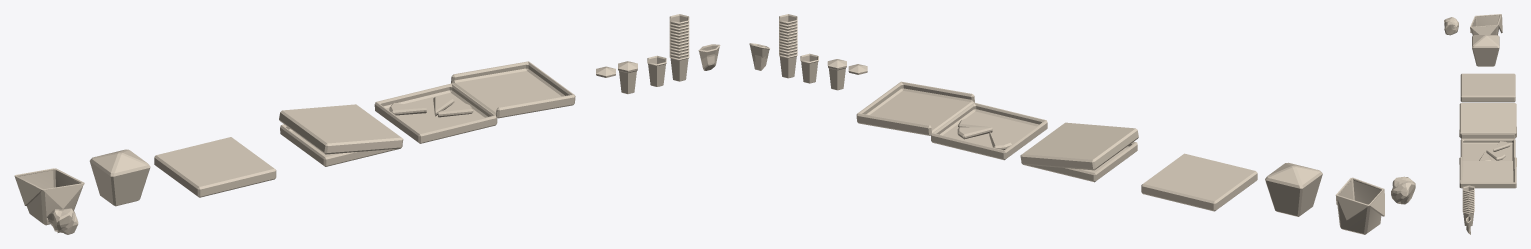
Rendered from fastfood_items.FBX.
3 renders of one model, left to right at view 1: azimuth 30°, elevation 25°; view 2: azimuth 150°, elevation 25°; view 3: azimuth 270°, elevation 25°, orthographic. The views are drawn at different scales.
Parts seen in each view (by area): view 1: cardboard_pizza_2, cardboard_pizza_1, cardboard_pizza_3, cardboard_china_2, cardboard_china_1, plastic_cups, trash_1, plastic_cup_1, plastic_cup_2, plastic_cup_003; view 2: cardboard_pizza_2, cardboard_pizza_1, cardboard_pizza_3, cardboard_china_1, cardboard_china_2, plastic_cups, trash_1, plastic_cup_1, plastic_cup_2, plastic_cup_003; view 3: cardboard_pizza_2, cardboard_pizza_1, cardboard_pizza_3, cardboard_china_1, cardboard_china_2, plastic_cups, trash_1, plastic_cup_003.
Part boxes in pixels (<box>): cardboard_pizza_2: <box>374,61,575,143</box>; cardboard_pizza_1: <box>279,104,403,166</box>; cardboard_pizza_3: <box>154,137,276,197</box>; cardboard_china_2: <box>14,168,84,225</box>; cardboard_china_1: <box>89,149,150,206</box>; plastic_cups: <box>669,14,689,81</box>; trash_1: <box>46,208,78,234</box>; plastic_cup_1: <box>618,61,637,94</box>; plastic_cup_2: <box>647,55,666,86</box>; plastic_cup_003: <box>698,44,720,70</box>; cardboard_pizza_2: <box>856,81,1047,160</box>; cardboard_pizza_1: <box>1020,122,1138,182</box>; cardboard_pizza_3: <box>1141,153,1257,211</box>; cardboard_china_1: <box>1265,162,1322,216</box>; cardboard_china_2: <box>1335,177,1384,234</box>; plastic_cups: <box>779,14,797,78</box>; trash_1: <box>1391,176,1415,204</box>; plastic_cup_1: <box>827,59,846,90</box>; plastic_cup_2: <box>800,53,818,83</box>; plastic_cup_003: <box>749,43,769,70</box>; cardboard_pizza_2: <box>1459,138,1516,188</box>; cardboard_pizza_1: <box>1459,103,1516,138</box>; cardboard_pizza_3: <box>1460,73,1515,102</box>; cardboard_china_1: <box>1472,35,1499,66</box>; cardboard_china_2: <box>1470,14,1502,35</box>; plastic_cups: <box>1462,186,1474,226</box>; trash_1: <box>1444,17,1458,35</box>; plastic_cup_003: <box>1465,216,1471,234</box>.
Size of the model in its own units: 46.95 by 7.2 by 4.
